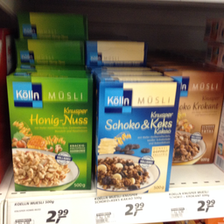cereal: (6, 72, 93, 192), (96, 76, 181, 193), (168, 71, 224, 167)
